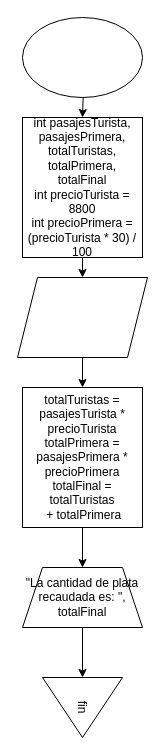
Image size: 165x755. Some labels were removed from this diagram. Here are the shapes that lost their labels. From the top down, the box of each, then its label:
(22, 16, 142, 98): Recaudacion total
(16, 276, 148, 358): Se ingresan cantidad de boletos Turista y Primera clase
